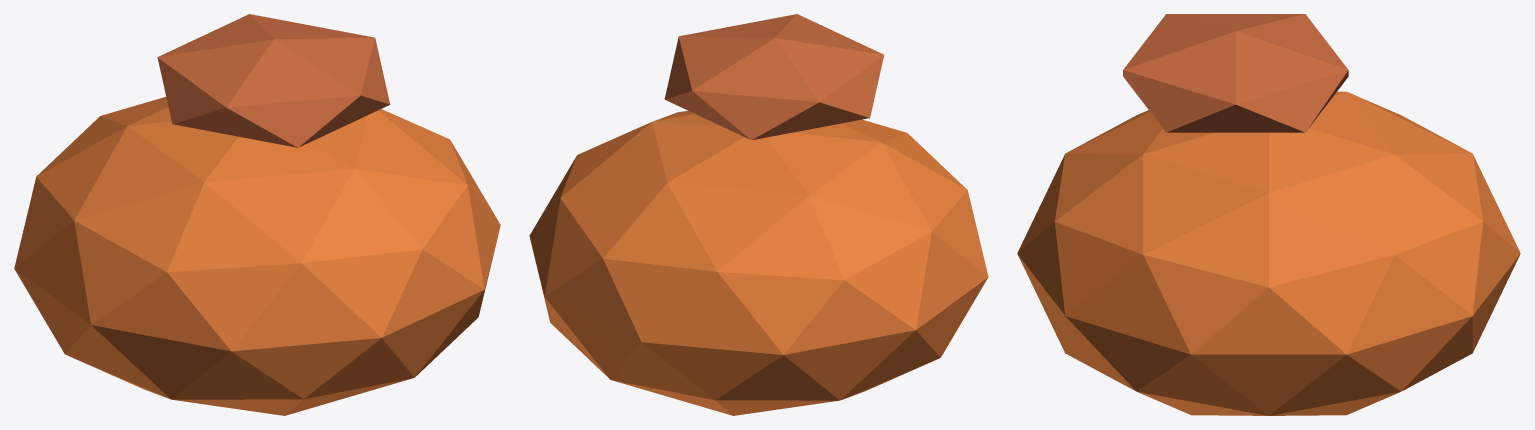
File: beanbag.glb
The picture shows the model from 3 angles, left to right: view 1: azimuth 30°, elevation 25°; view 2: azimuth 150°, elevation 25°; view 3: azimuth 270°, elevation 25°; orthographic projection. The views are drawn at different scales.
Visible parts, largest first — view 1: beanbag_mesh; view 2: beanbag_mesh; view 3: beanbag_mesh.
Boxes of the visible parts, x1=… form: beanbag_mesh: x1=14, y1=14, x2=500, y2=415; beanbag_mesh: x1=529, y1=14, x2=988, y2=415; beanbag_mesh: x1=1017, y1=14, x2=1520, y2=415.
Bounding box in the file's own units: 0.7228 × 0.598 × 0.76.
